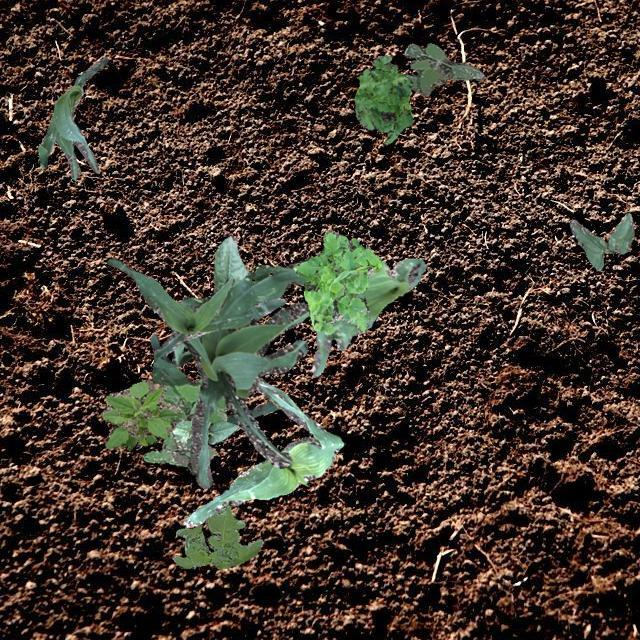crop: (182, 256, 310, 486), (182, 376, 342, 526), (107, 258, 286, 358), (310, 258, 424, 374), (150, 332, 278, 423), (170, 234, 250, 366), (36, 56, 106, 180), (570, 212, 632, 270), (172, 416, 238, 446)
weed: (292, 230, 380, 334), (143, 378, 230, 466), (172, 504, 262, 568), (101, 378, 182, 449), (353, 54, 412, 144), (404, 42, 484, 94)
